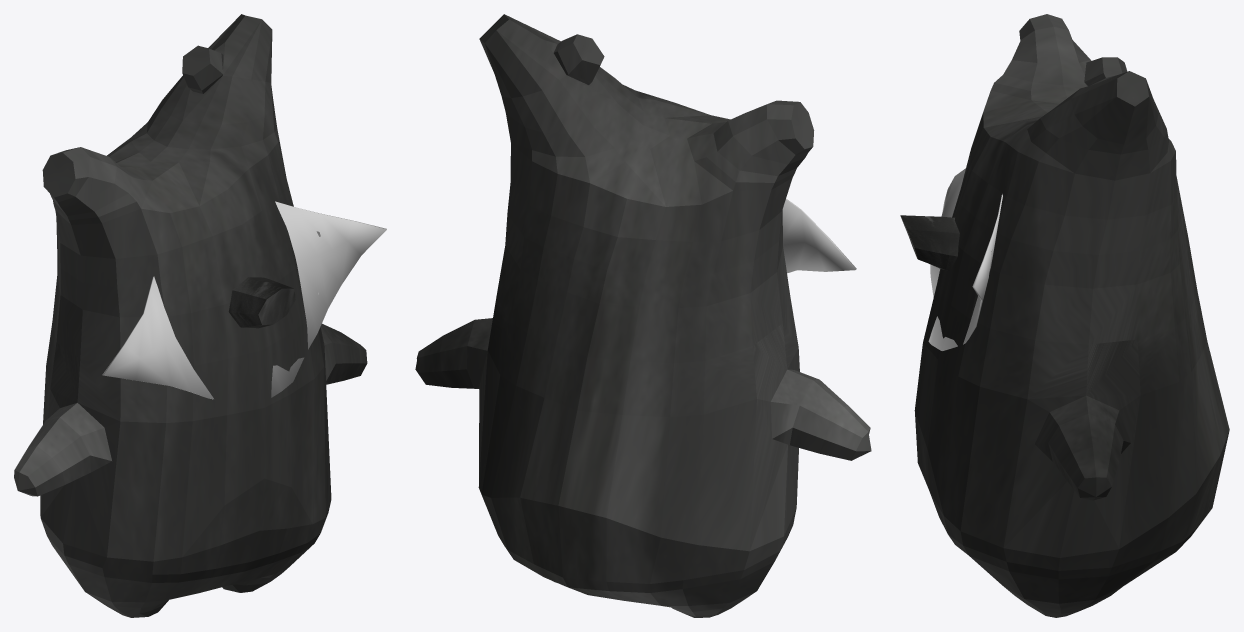
File: frame_0024.obj
The picture shows the model from 3 angles, left to right: view 1: azimuth 30°, elevation 25°; view 2: azimuth 150°, elevation 25°; view 3: azimuth 270°, elevation 25°; orthographic projection. The views are drawn at different scales.
Visible parts, largest first — view 1: korok, leaf, nose; view 2: korok, leaf; view 3: korok, nose, leaf.
Part boxes in pixels (box(x1,y1,x2,y2)): korok: box(14, 14, 367, 617); leaf: box(102, 201, 386, 399); nose: box(228, 277, 295, 328); korok: box(415, 14, 871, 617); leaf: box(782, 198, 856, 273); korok: box(914, 14, 1229, 617); nose: box(900, 215, 959, 270); leaf: box(928, 168, 1002, 350).
Size of the model in its own units: 1.7 by 2.29 by 1.22.
